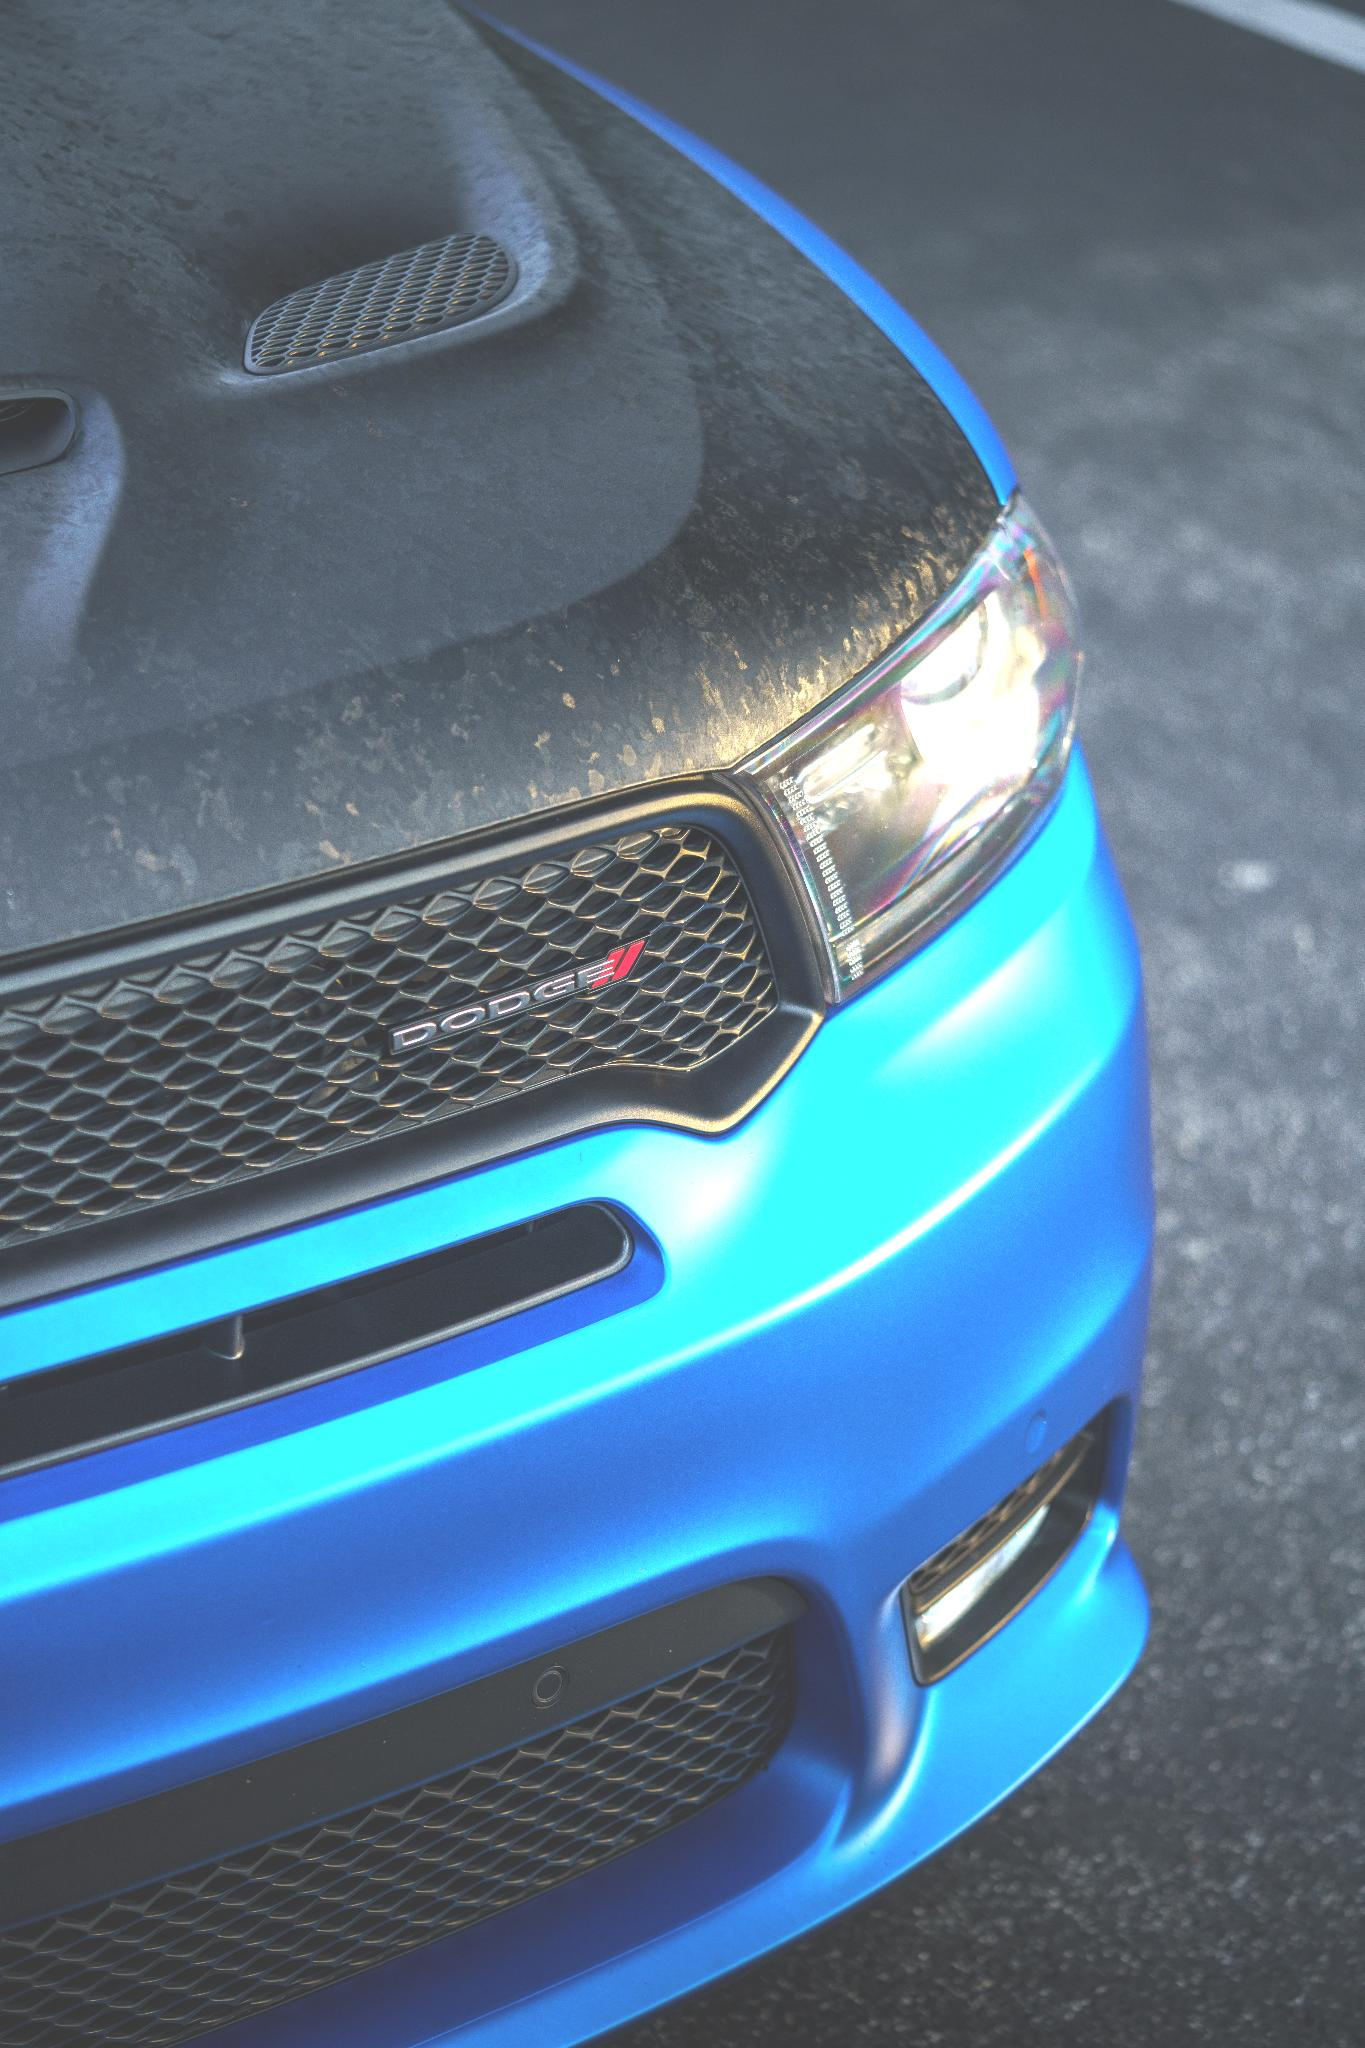dodge: (356, 903, 679, 1084)
